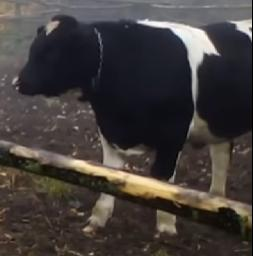cow: (10, 13, 253, 237)
